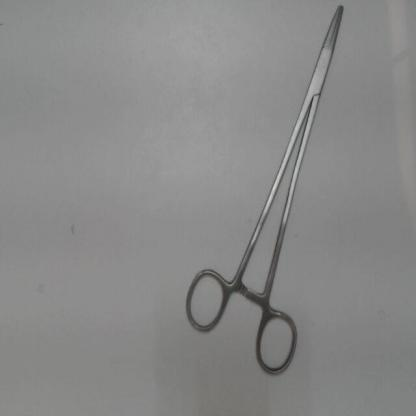8 Mayo Needle Holder: (175, 1, 352, 380)
